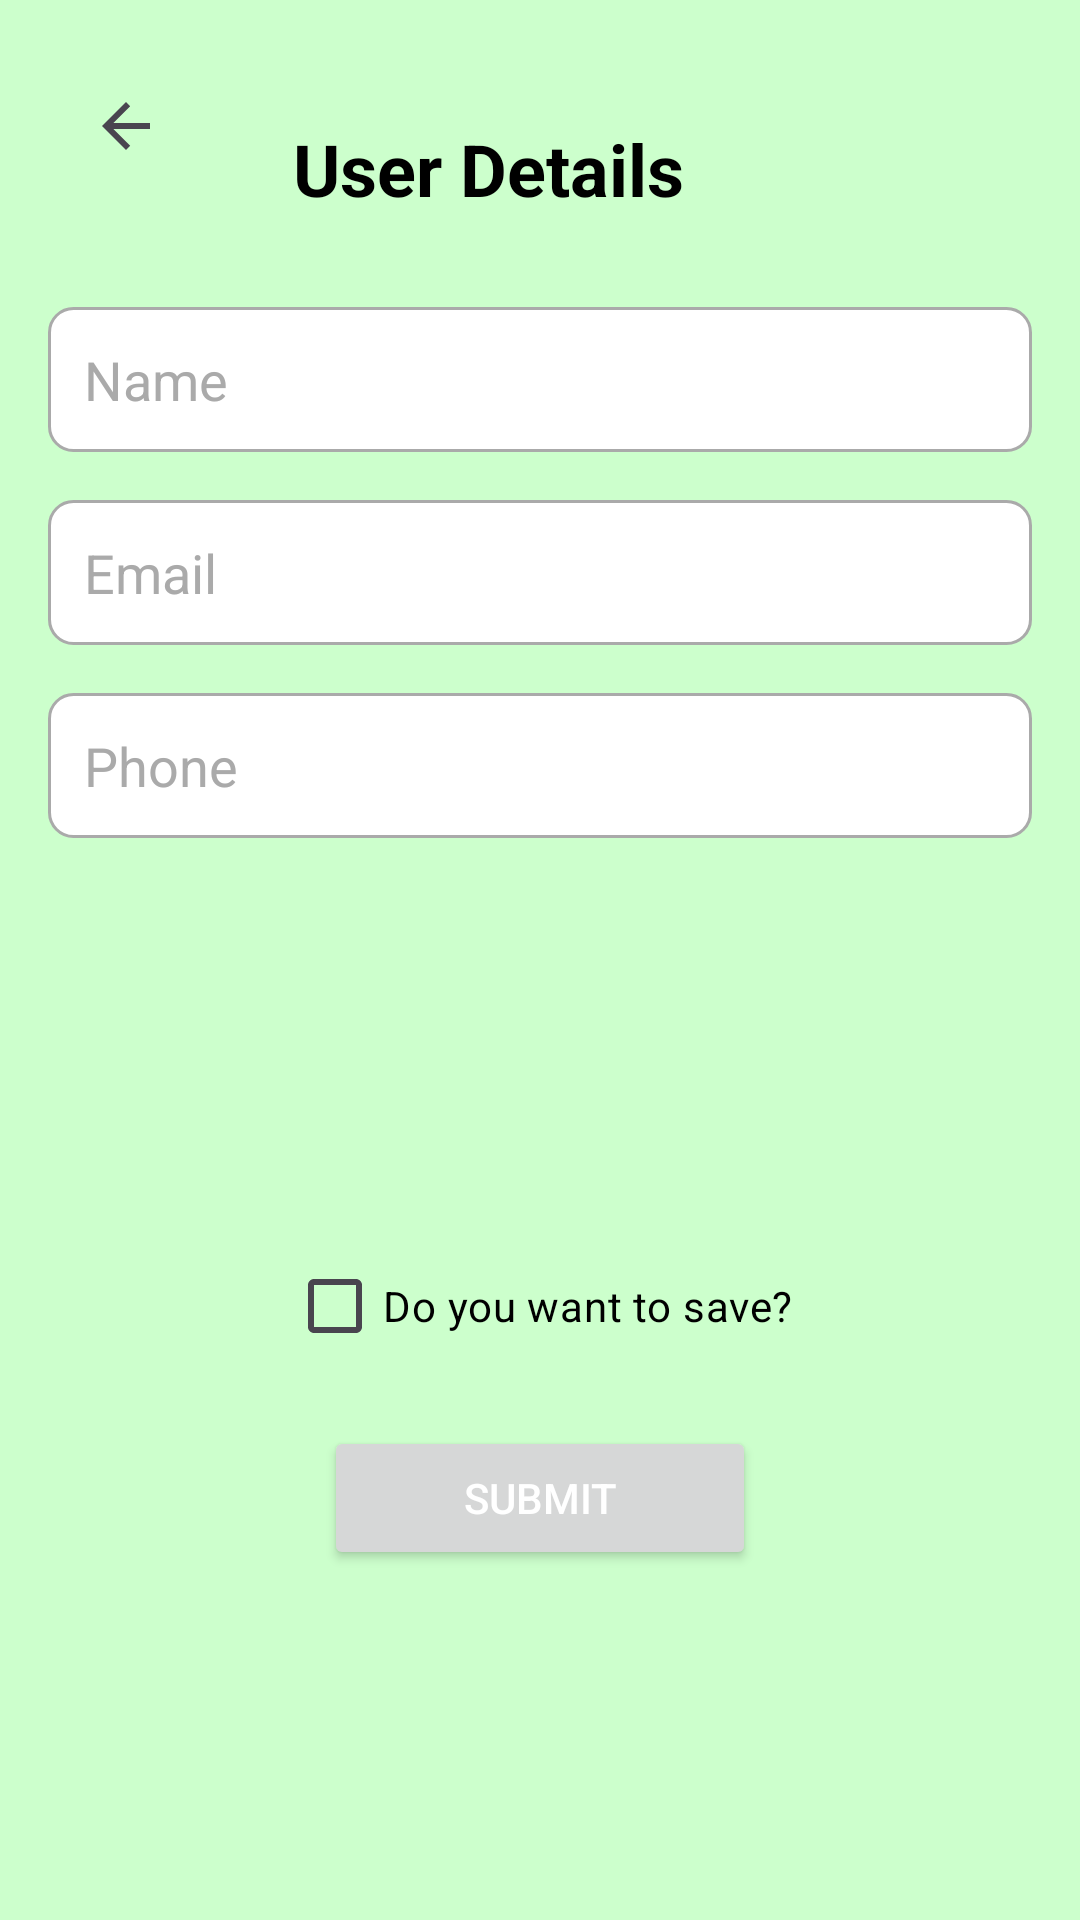

Icon bounding boxes for this 1080px×1920px phone screenshot, format (x1, y1, x2, y2):
Back: (102, 102, 150, 150)
